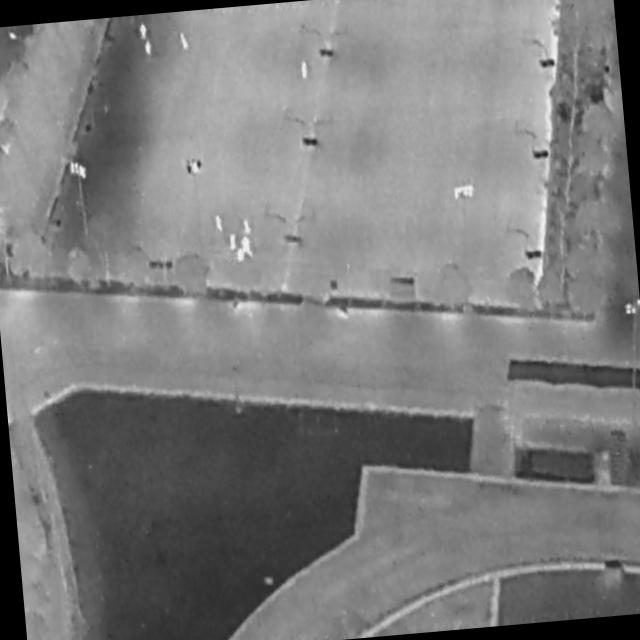person: (241, 236, 255, 258), (178, 32, 191, 53), (300, 60, 310, 81), (229, 232, 238, 252), (216, 216, 224, 234), (145, 41, 153, 57), (238, 247, 246, 263), (243, 219, 251, 234), (141, 23, 148, 39)
